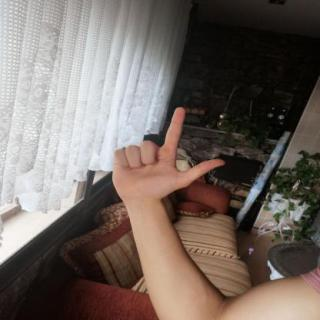LAAM: (104, 101, 232, 207)
